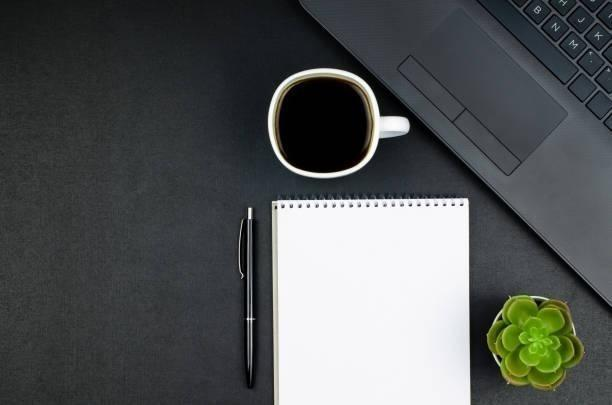cup-handle: (266, 67, 411, 181)
